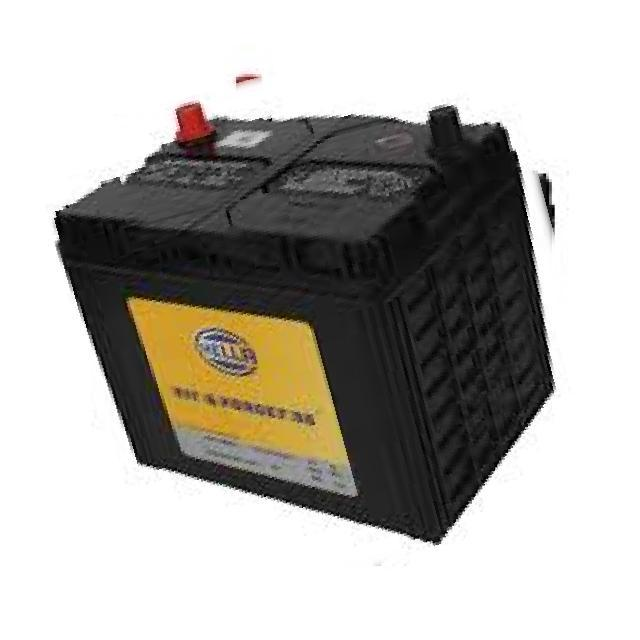Battery: (32, 87, 569, 611)
